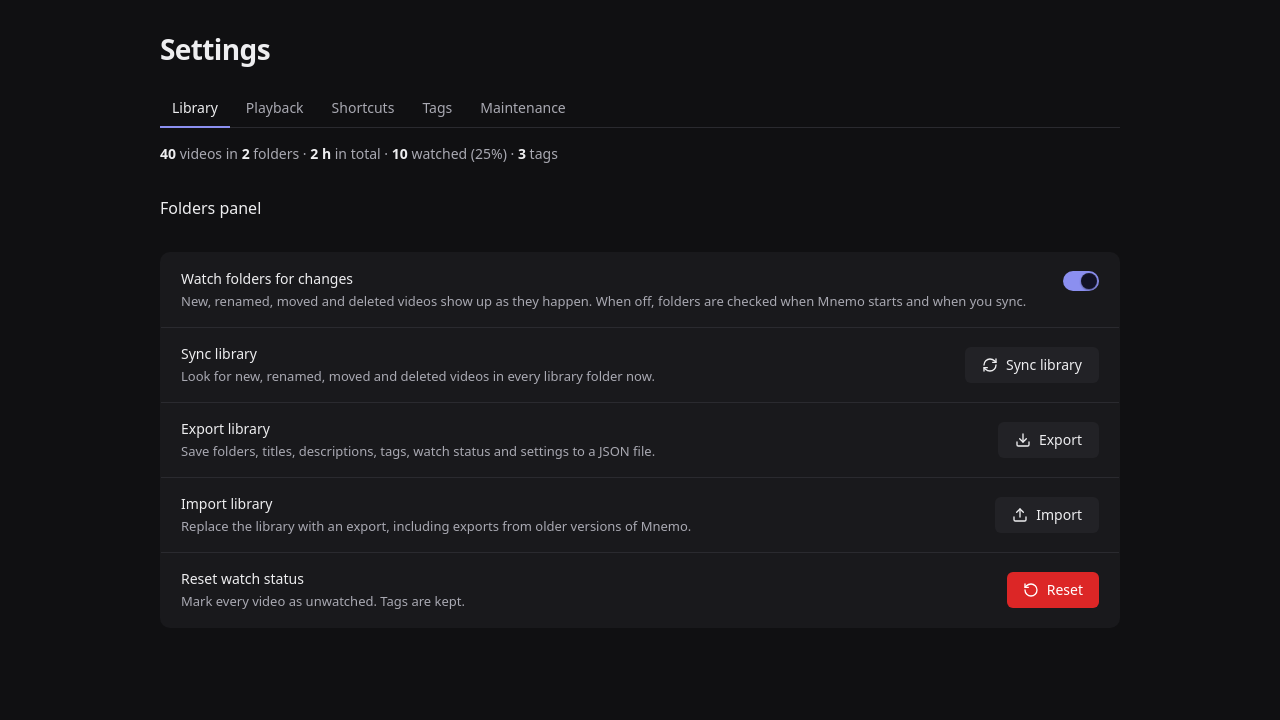
Test: SettingsPage › imports a library file only after confirming the replacement
Click the button "Import". click: click(1047, 515)
box: left=995, top=497, right=1099, bottom=533
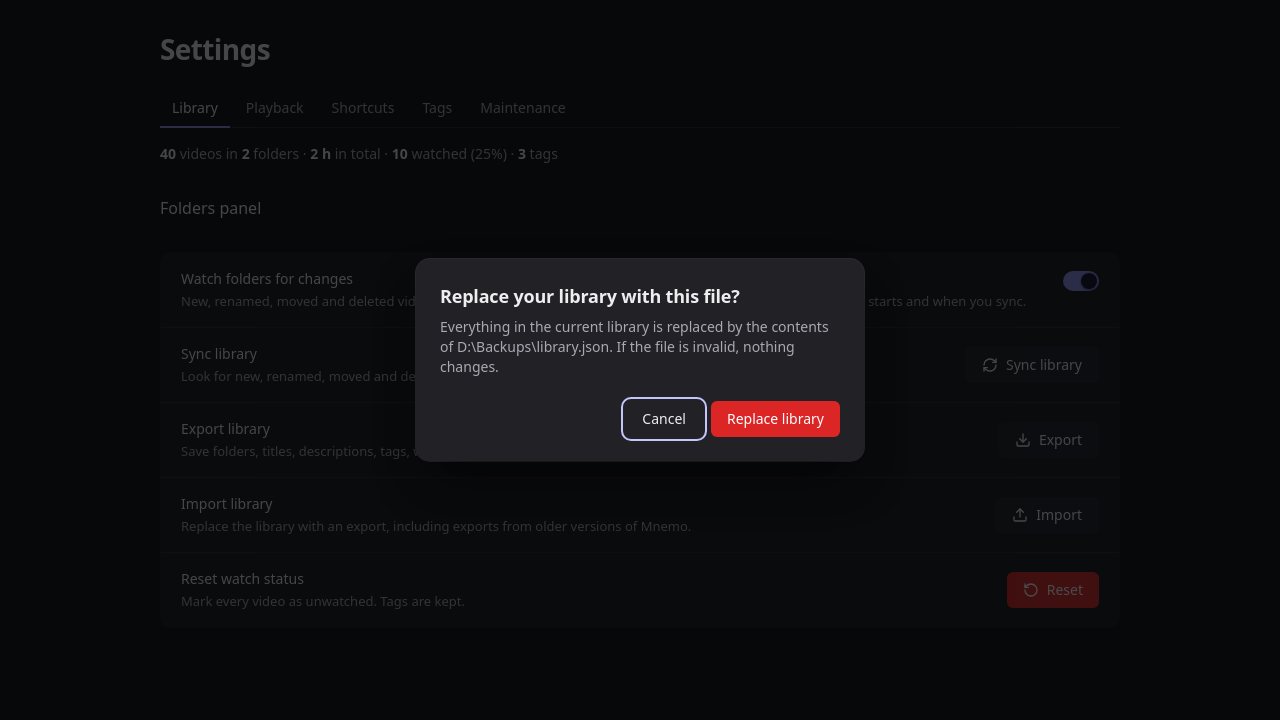
Click the button "Replace library". click: click(775, 419)
box: left=711, top=401, right=840, bottom=437
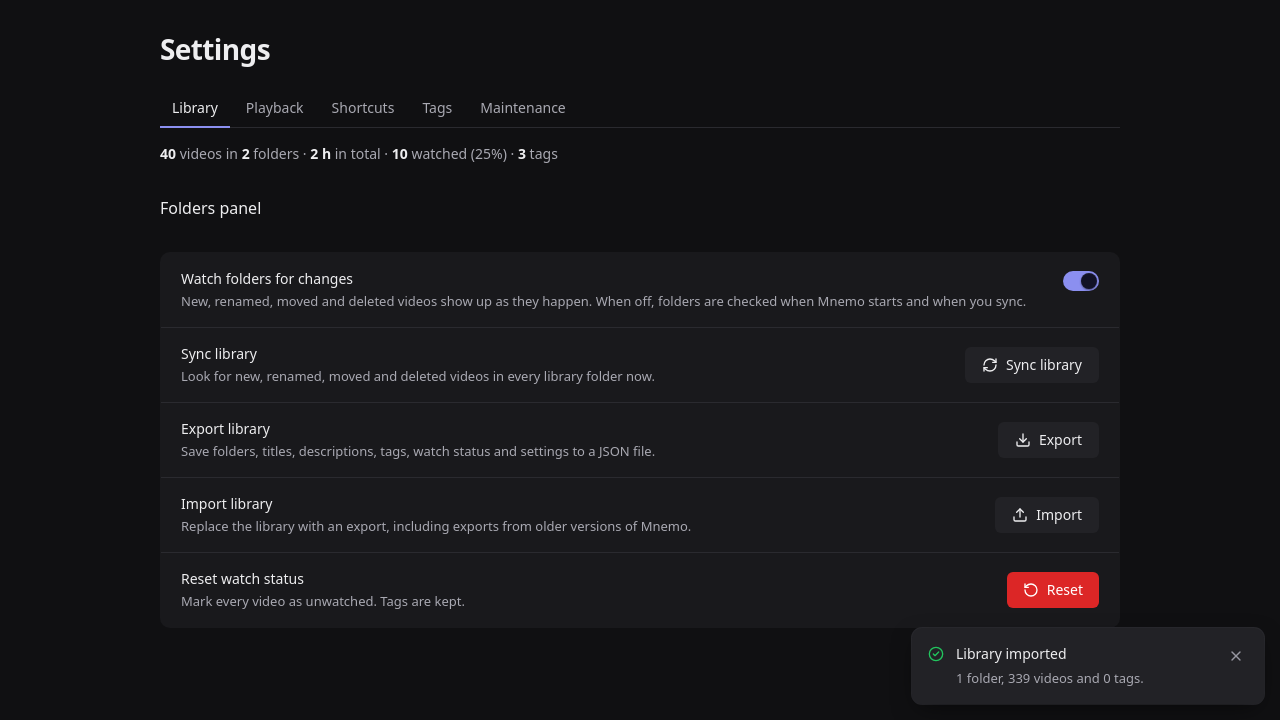
Result: the text "Library imported" is shown at left=956, top=644, right=1067, bottom=663
